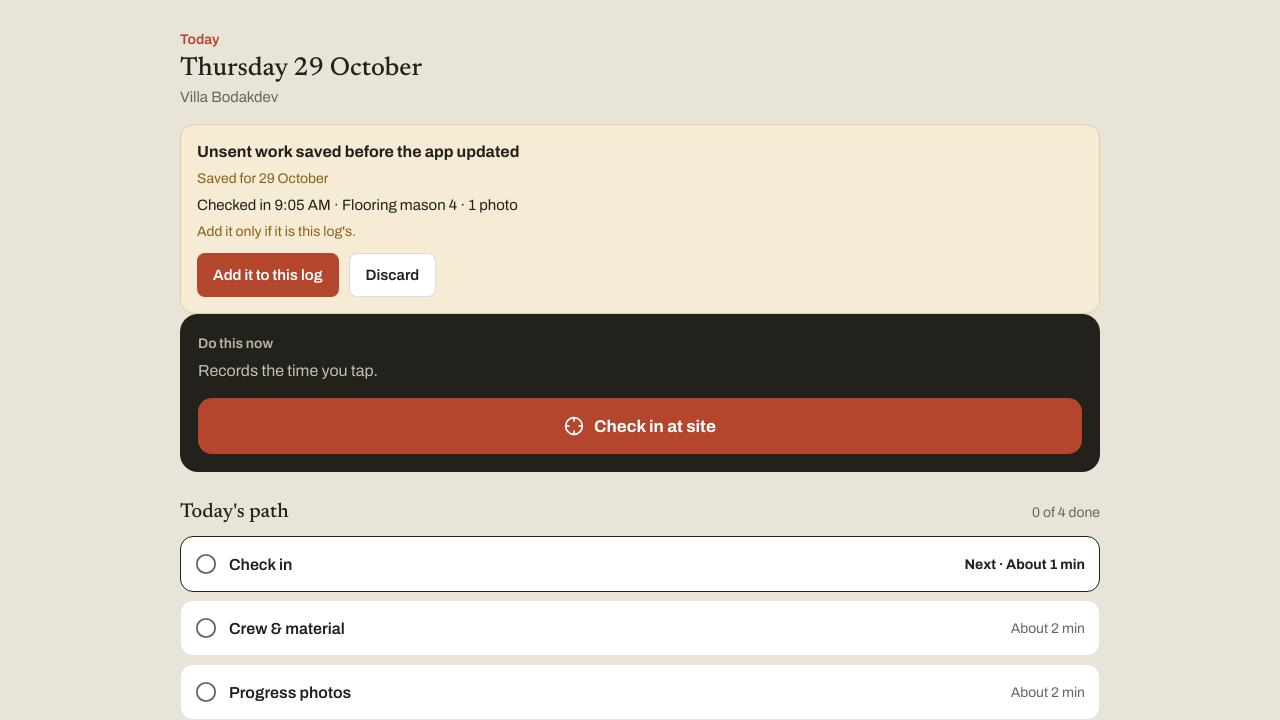
Test: #692 — Today shows kept-aside work and adds it only on confirmation › shows what it holds and the day it was for; nothing is on the log until the engineer adds it
Expected: the element with test id "legacy-draft" shows "Unsent work saved before the app updated", [197,143,519,160]
Click the button with test id "legacy-draft-add": [268, 275] box [197,253,338,297]
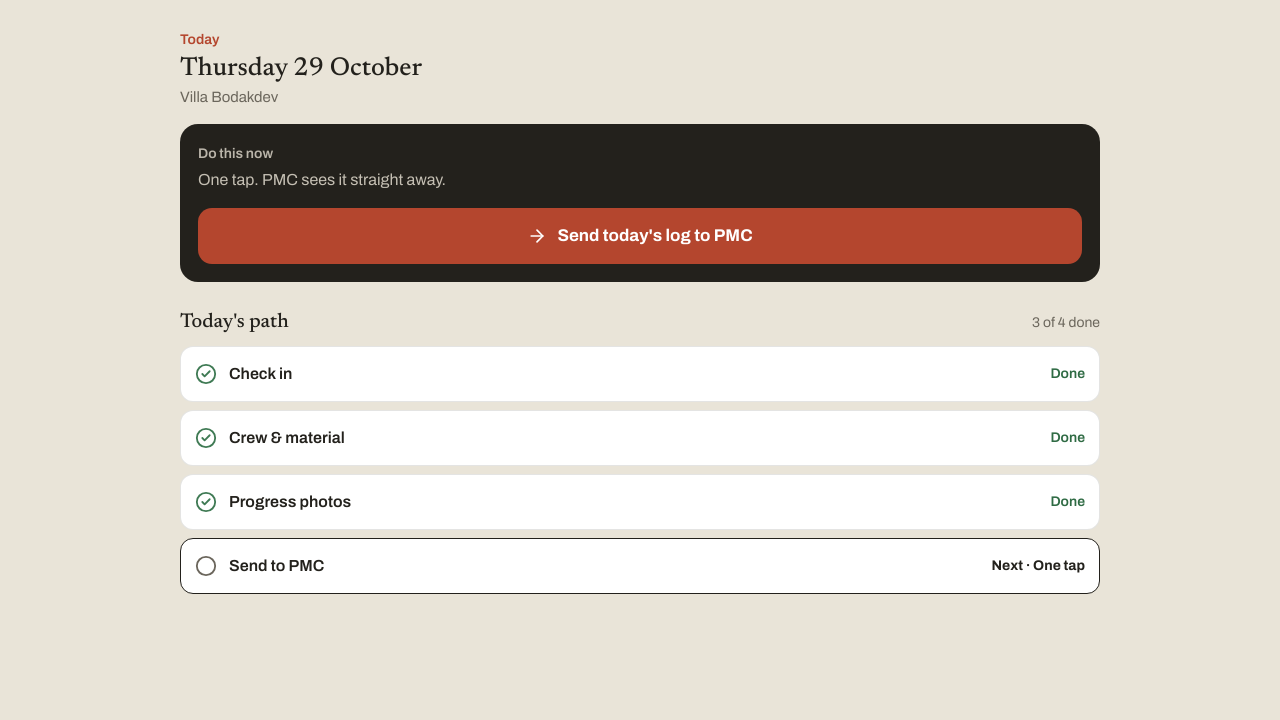
Expected: the element with test id "legacy-draft" is gone
